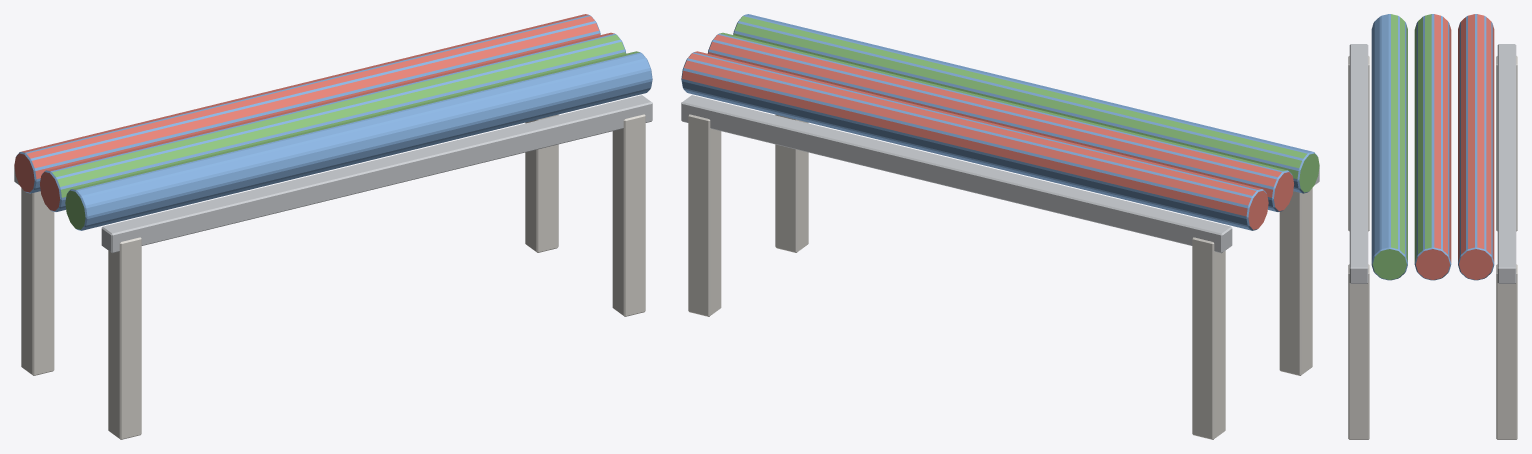
The picture shows the model from 3 angles, left to right: view 1: azimuth 30°, elevation 25°; view 2: azimuth 150°, elevation 25°; view 3: azimuth 270°, elevation 25°; orthographic projection. The views are drawn at different scales.
Parts seen in each view (by area): view 1: 管道.001, 立柱, 横梁; view 2: 管道.001, 立柱, 横梁; view 3: 管道.001, 横梁, 立柱.
Part boxes in pixels (<box>): 管道.001: <box>14,14,652,230</box>; 立柱: <box>21,114,645,439</box>; 横梁: <box>14,95,652,253</box>; 管道.001: <box>681,14,1319,230</box>; 立柱: <box>688,114,1312,439</box>; 横梁: <box>681,95,1319,253</box>; 管道.001: <box>1371,14,1494,280</box>; 横梁: <box>1349,44,1516,283</box>; 立柱: <box>1348,56,1517,439</box>.
Size of the model in its own units: 900 by 359 by 275.
